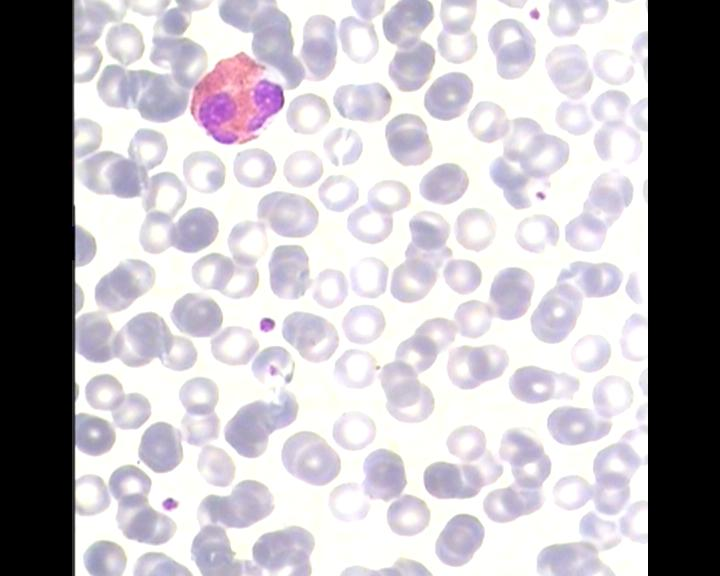eosi: (189, 43, 285, 146)
